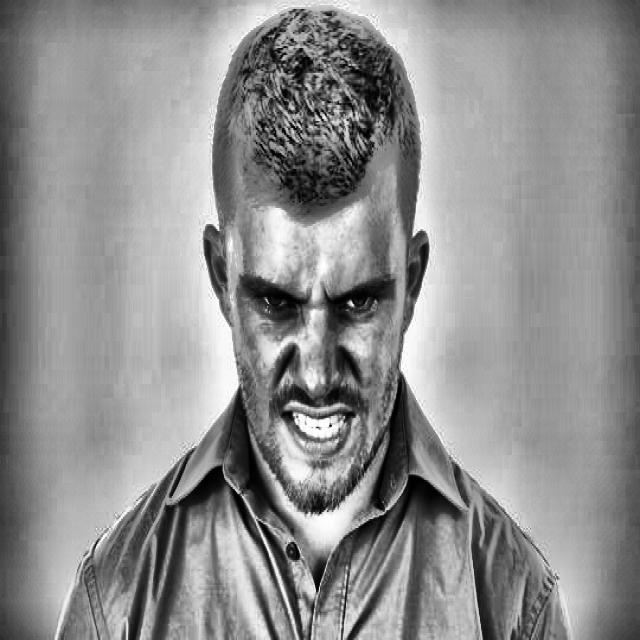angry: (198, 191, 444, 513)
